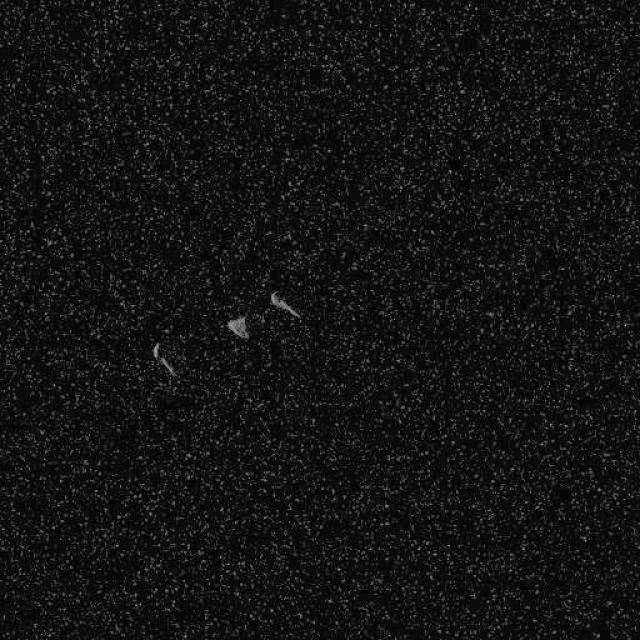D2: (150, 340, 178, 379), (269, 289, 301, 319), (225, 314, 250, 340)
